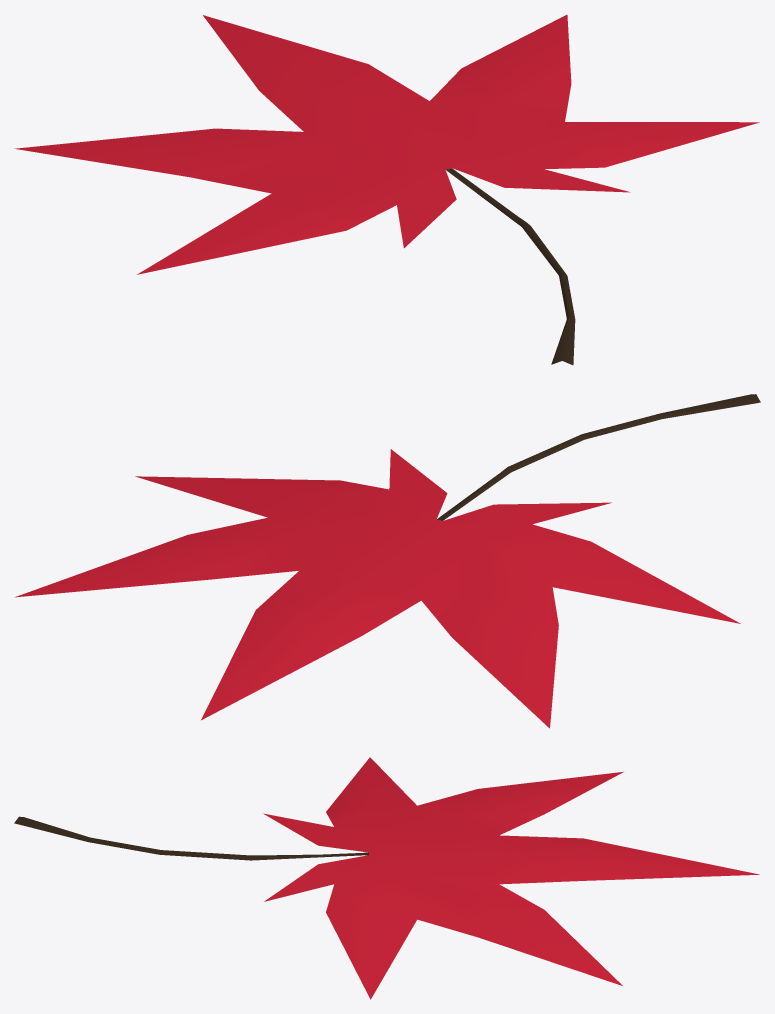
File: JapaneseMaple02.fbx
3 views of the same model, one above another, from view 1: azimuth 30°, elevation 25°; view 2: azimuth 150°, elevation 25°; view 3: azimuth 270°, elevation 25° (orthographic). The views are drawn at different scales.
Parts seen in each view (by area): view 1: Japanese Maple 02; view 2: Japanese Maple 02; view 3: Japanese Maple 02.
Boxes of the visible parts, box(x1,y1,x2,y2) form: Japanese Maple 02: box(14, 15, 759, 365); Japanese Maple 02: box(15, 394, 760, 728); Japanese Maple 02: box(14, 757, 759, 999).
Bounding box in the file's own units: 4.68 × 0.2184 × 6.09.
